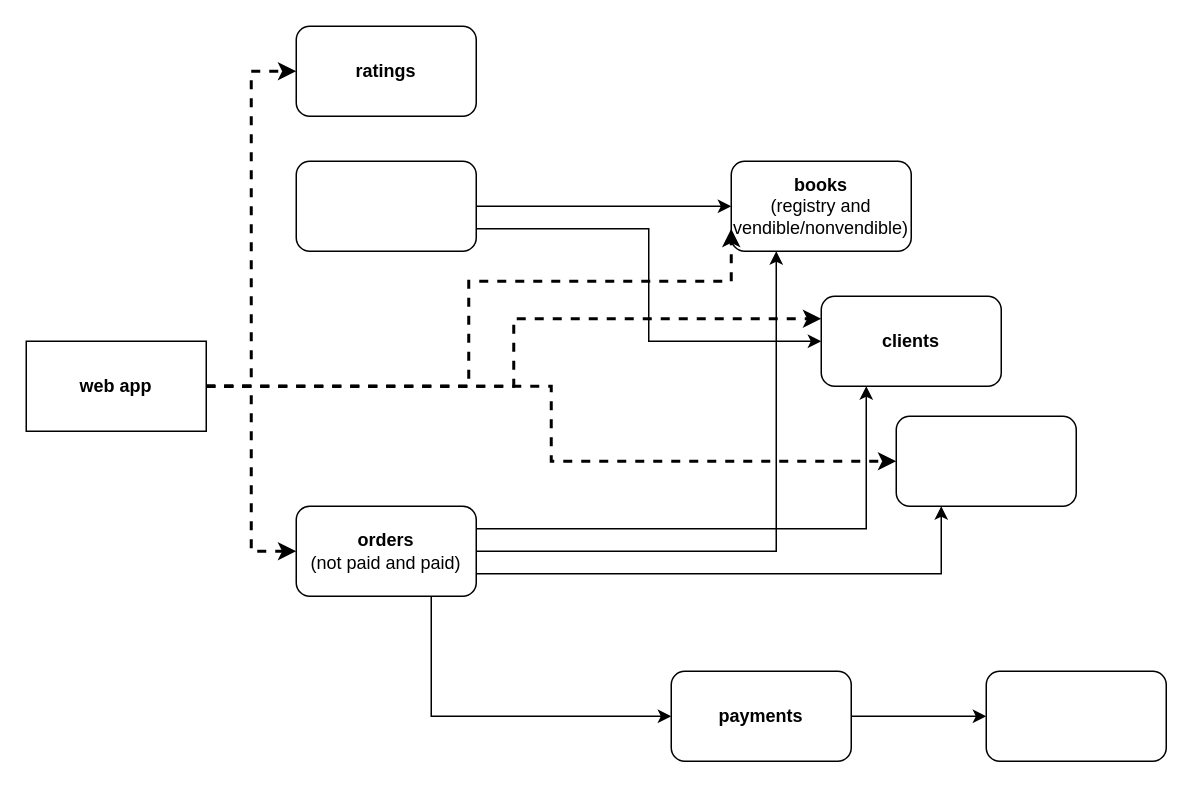
The diagram is 1193 pixels wide and 788 high, and some of its shapes have lost their labels. The shapes that lost their labels are listed below. From the top down, each one's centre as x and y in pixels, then its label:
[385,205]: cart
[985,460]: storage book and quantity available
[1075,715]: dynapay
